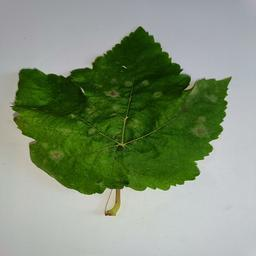Powdery-Mildew: (104, 69, 128, 110), (38, 139, 65, 160), (150, 87, 167, 104), (204, 85, 220, 102), (87, 123, 103, 140), (191, 125, 207, 142)
